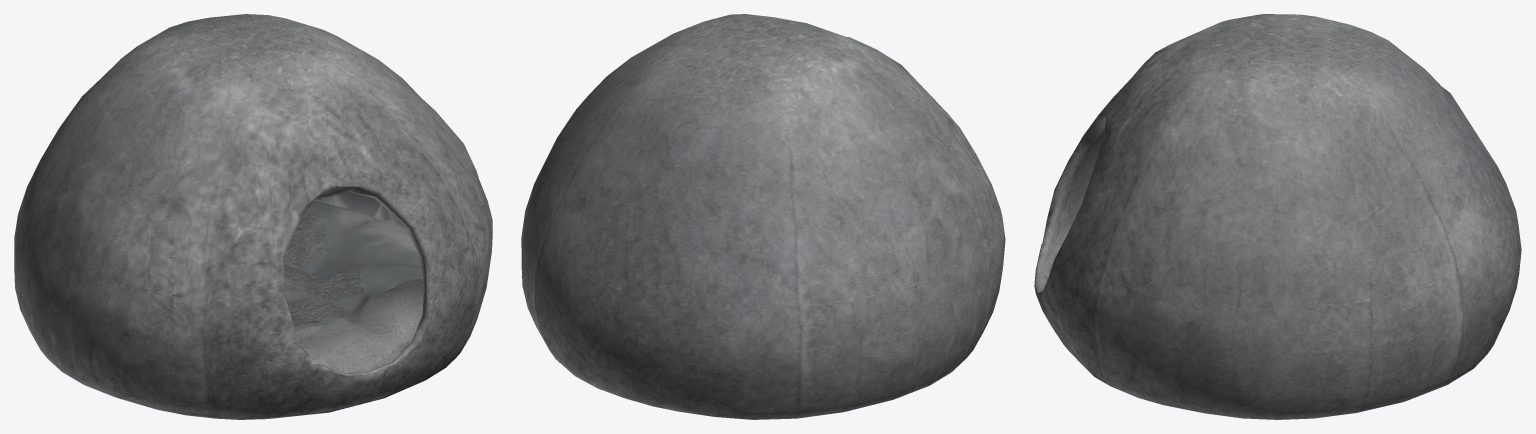
File: Meshy_AI_Stone_Dome_0610211929_texture.fbx
3 views of the same model, side by side, from view 1: azimuth 30°, elevation 25°; view 2: azimuth 150°, elevation 25°; view 3: azimuth 270°, elevation 25° (orthographic).
Visible parts, largest first — view 1: Mesh_0; view 2: Mesh_0; view 3: Mesh_0.
Boxes of the visible parts, left/top/right/bottom form: Mesh_0: left=14, top=14, right=492, bottom=419; Mesh_0: left=521, top=14, right=1005, bottom=419; Mesh_0: left=1034, top=14, right=1521, bottom=419.
Size of the model in its own units: 190 by 132 by 191.
Materials: 1 (1 with a texture image).
